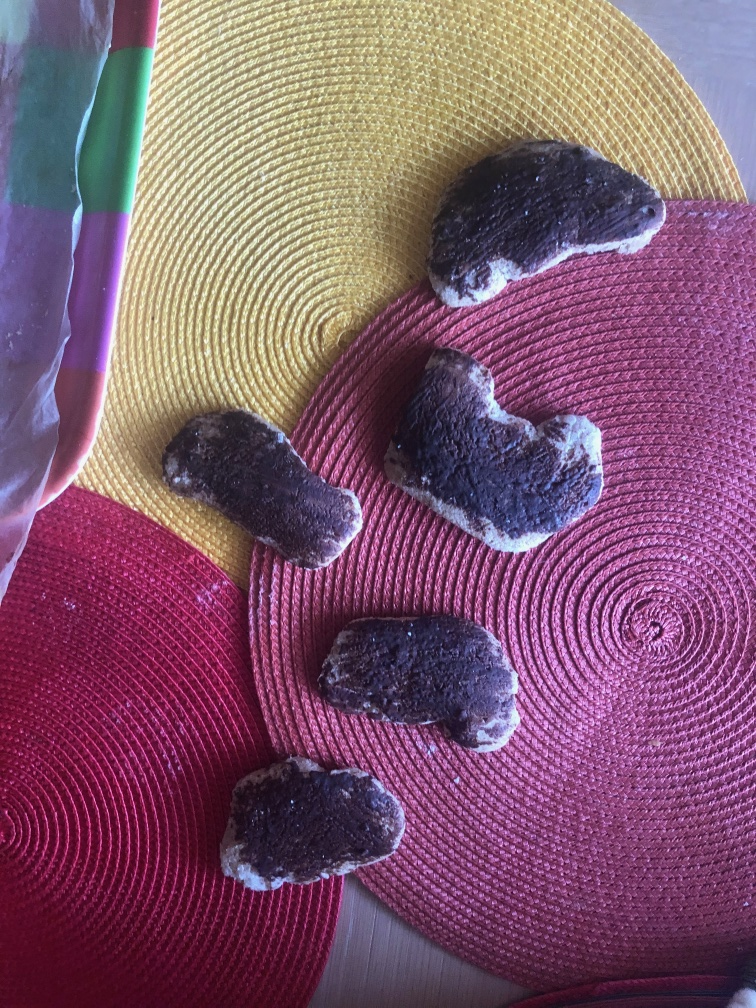weird #1: (385, 353, 603, 555), (433, 135, 675, 310), (160, 399, 366, 573), (318, 604, 520, 754), (218, 760, 404, 889)
